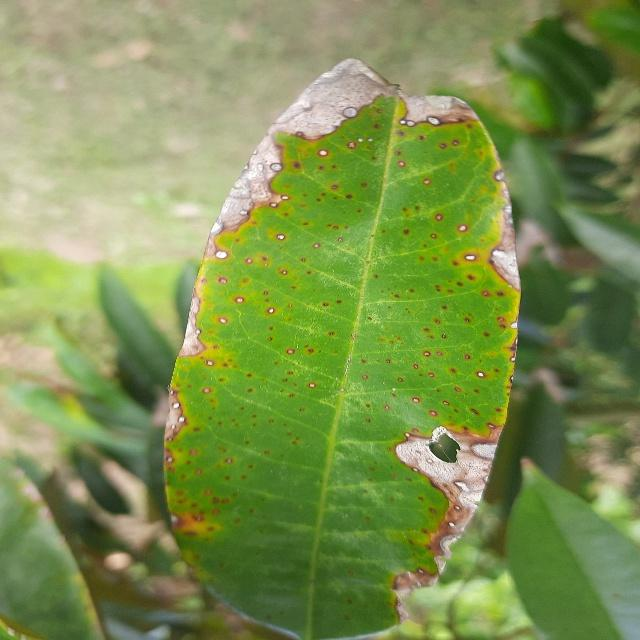Leaf Spot: (147, 52, 525, 640)
